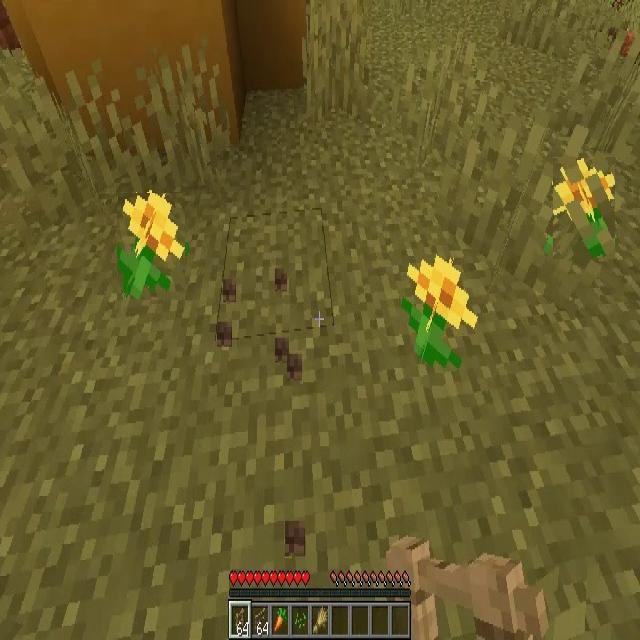flower: (402, 255, 478, 368), (117, 193, 185, 300), (553, 157, 615, 259)
